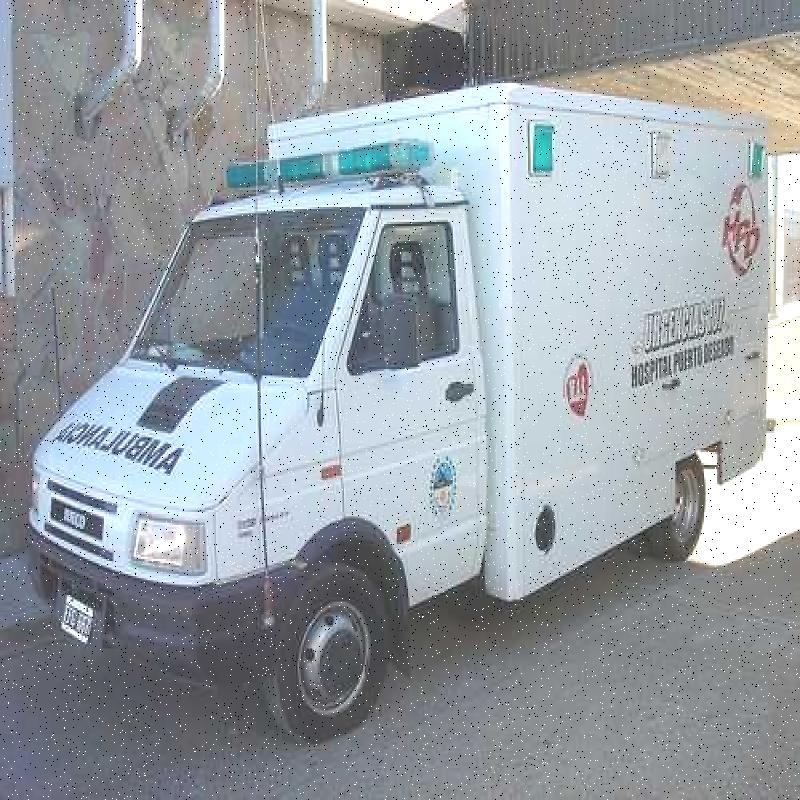AmbulanceSiren: (214, 130, 441, 200)
